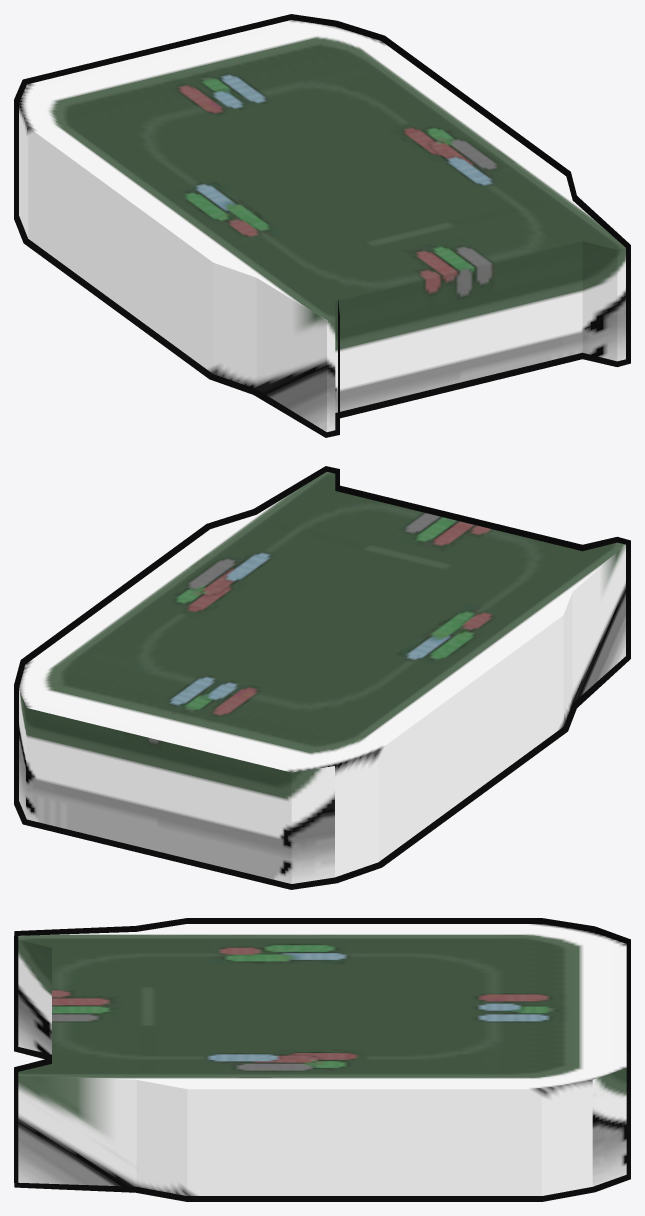
File: Building_PokerTable_Things_Building_Joy_PokerTable.glb
The picture shows the model from 3 angles, top to bottom: view 1: azimuth 30°, elevation 25°; view 2: azimuth 150°, elevation 25°; view 3: azimuth 270°, elevation 25°; orthographic projection. The views are drawn at different scales.
Visible parts, largest first — view 1: Body, Outline; view 2: Body, Outline; view 3: Body, Outline.
Boxes of the visible parts, box(x1,y1,x2,y2) form: Body: box(19, 20, 625, 431); Outline: box(14, 14, 630, 437); Body: box(19, 472, 625, 883); Outline: box(14, 466, 630, 889); Body: box(18, 924, 626, 1195); Outline: box(14, 918, 630, 1201).
Bounding box in the file's own units: 0.9916 × 0.3186 × 1.53.
Materials: 2 (1 with a texture image).
